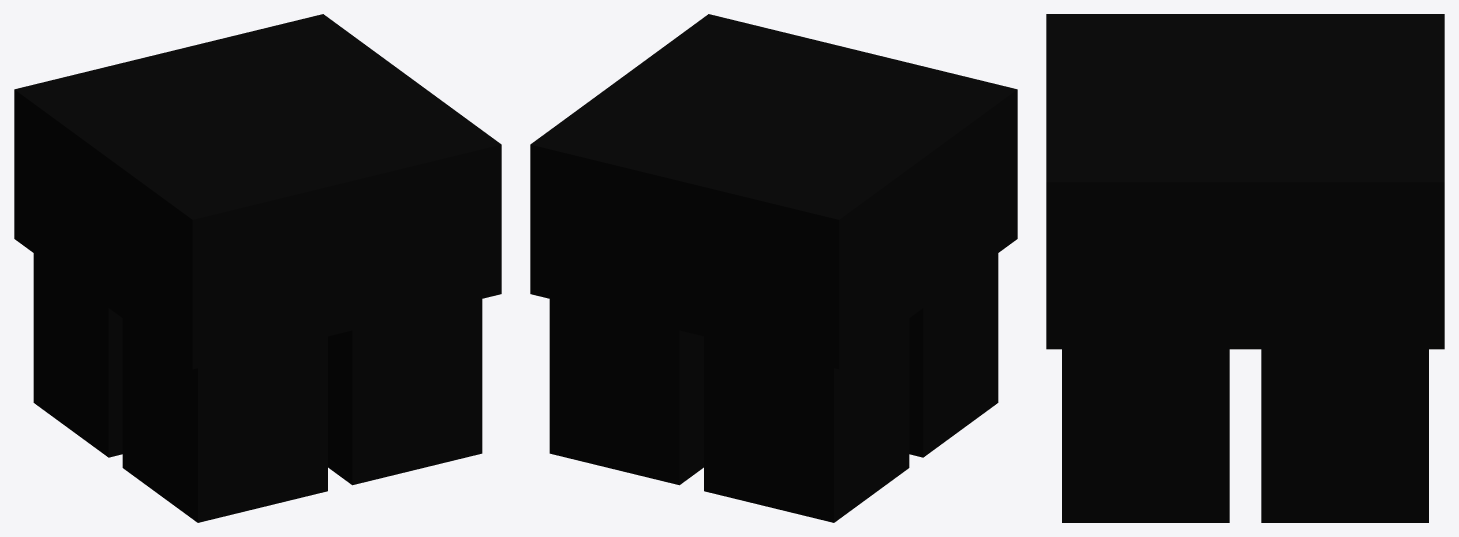
The model's file is 4Pines.fbx.
3 views of the same model, side by side, from view 1: azimuth 30°, elevation 25°; view 2: azimuth 150°, elevation 25°; view 3: azimuth 270°, elevation 25° (orthographic). The views are drawn at different scales.
Visible parts, largest first — view 1: Conector4Pines; view 2: Conector4Pines; view 3: Conector4Pines.
Part boxes in pixels (bbox=[...]): Conector4Pines: bbox=[14, 14, 501, 522]; Conector4Pines: bbox=[530, 14, 1017, 522]; Conector4Pines: bbox=[1046, 14, 1444, 522].
Size of the model in its own units: 200 by 192 by 200.
1 material, 1 textured.
